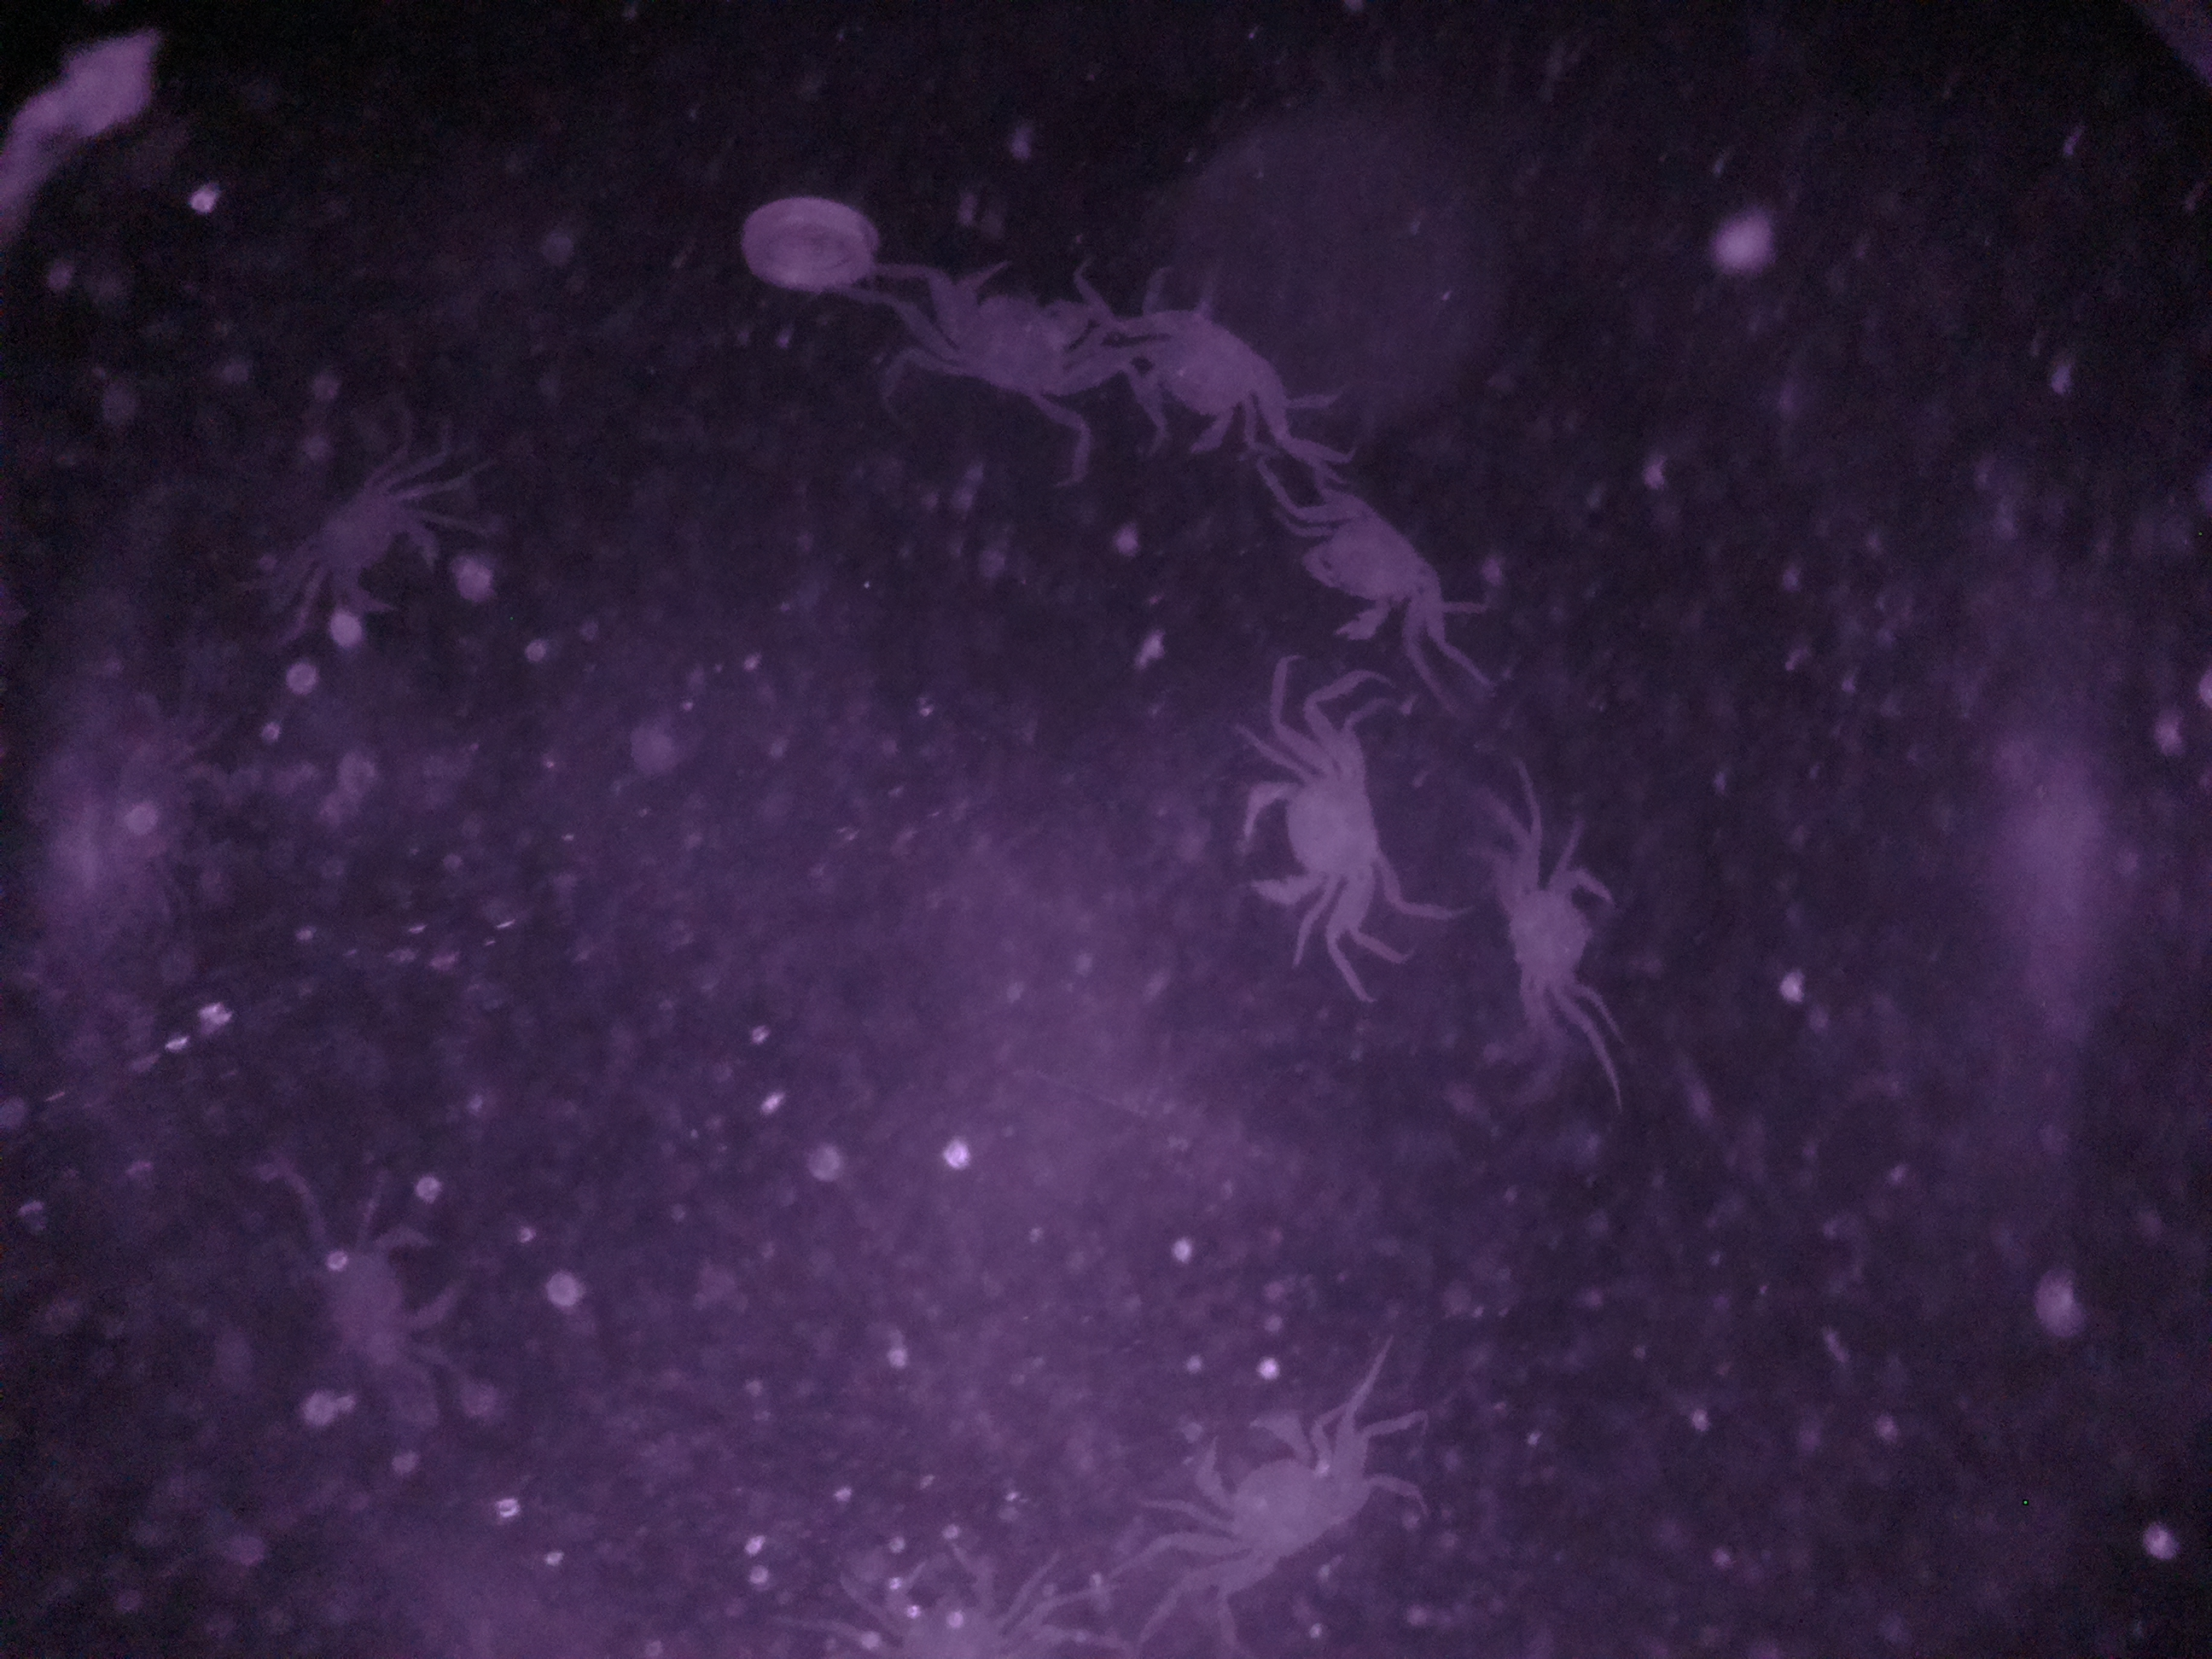Crab: (1169, 1382, 1388, 1608), (1277, 471, 1479, 681), (1118, 275, 1324, 481), (1461, 828, 1620, 1072), (939, 251, 1125, 457), (1212, 732, 1397, 936)
